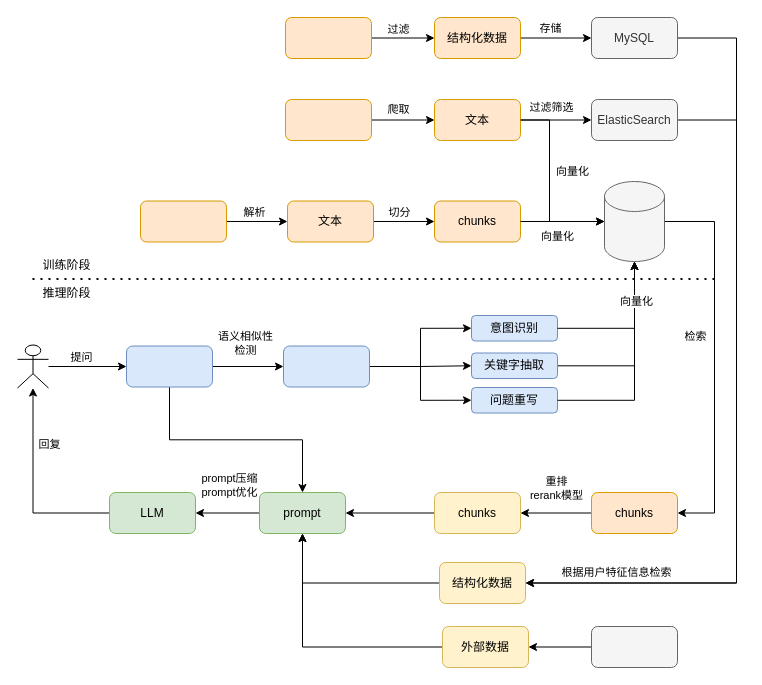
This 762x685 diagram has some shape labels left out. Each missing label, with the centre of its shape:
业务信息: pixel 328 37
向量 数据库: pixel 634 221
工具调用: pixel 634 647
文档: pixel 183 221
缓存: pixel 326 366
网页: pixel 328 119
问题: pixel 169 366
